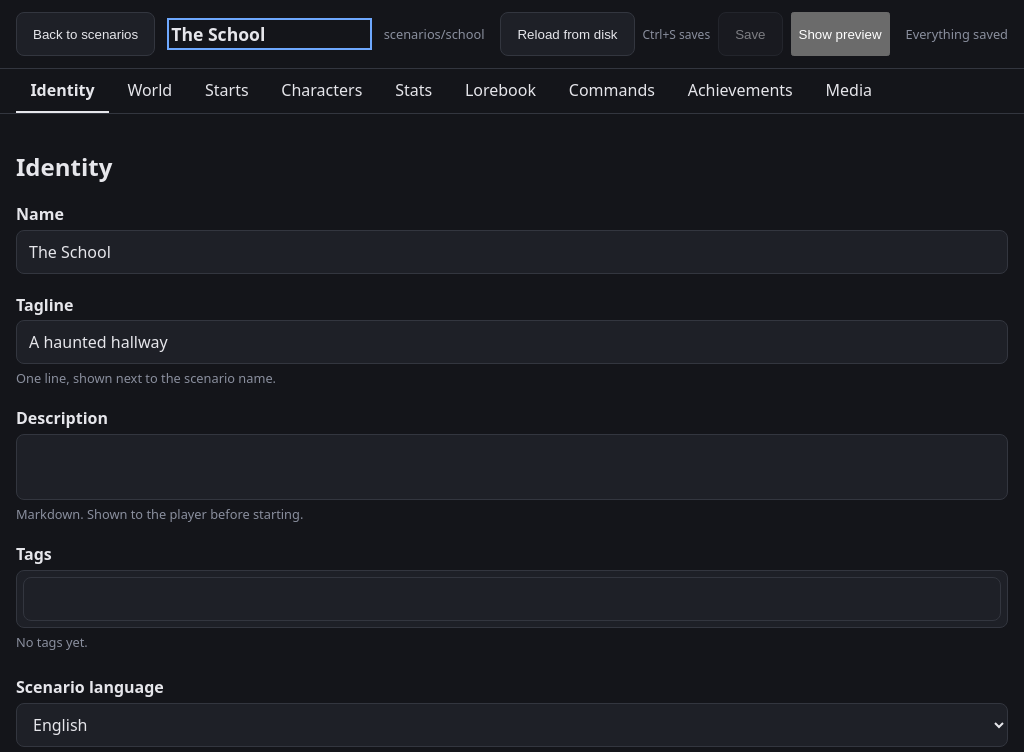
Test: BuilderEditorScreen › saves an edit with a PUT carrying the revision and returns to clean with the new revision
The image size is (1024, 752).
Replace the text in the field labelled "Name" with "The School Reborn" at (512,252), box [16,230,1008,274]
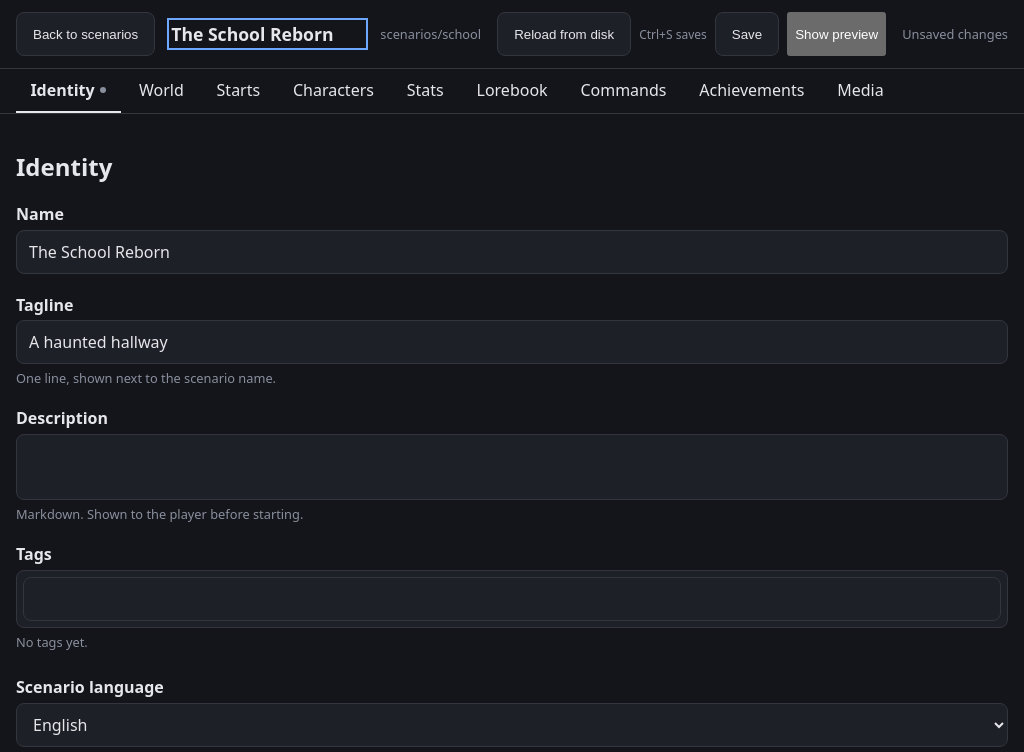
Expected: the text "Unsaved changes" is shown, [902,25,1008,43]
Click the button "Save" at (747,34), box [715,12,779,56]
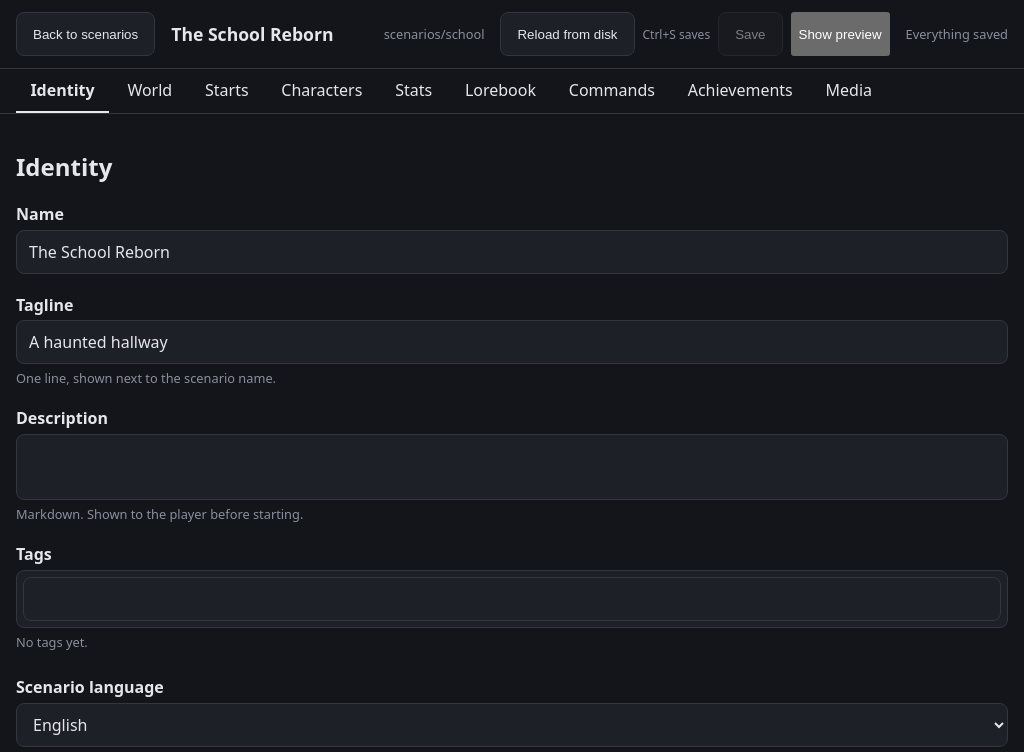
Expected: the text "Everything saved" is shown, [906,25,1008,43]
Expected: the button "Save" is disabled, [718,12,782,56]
